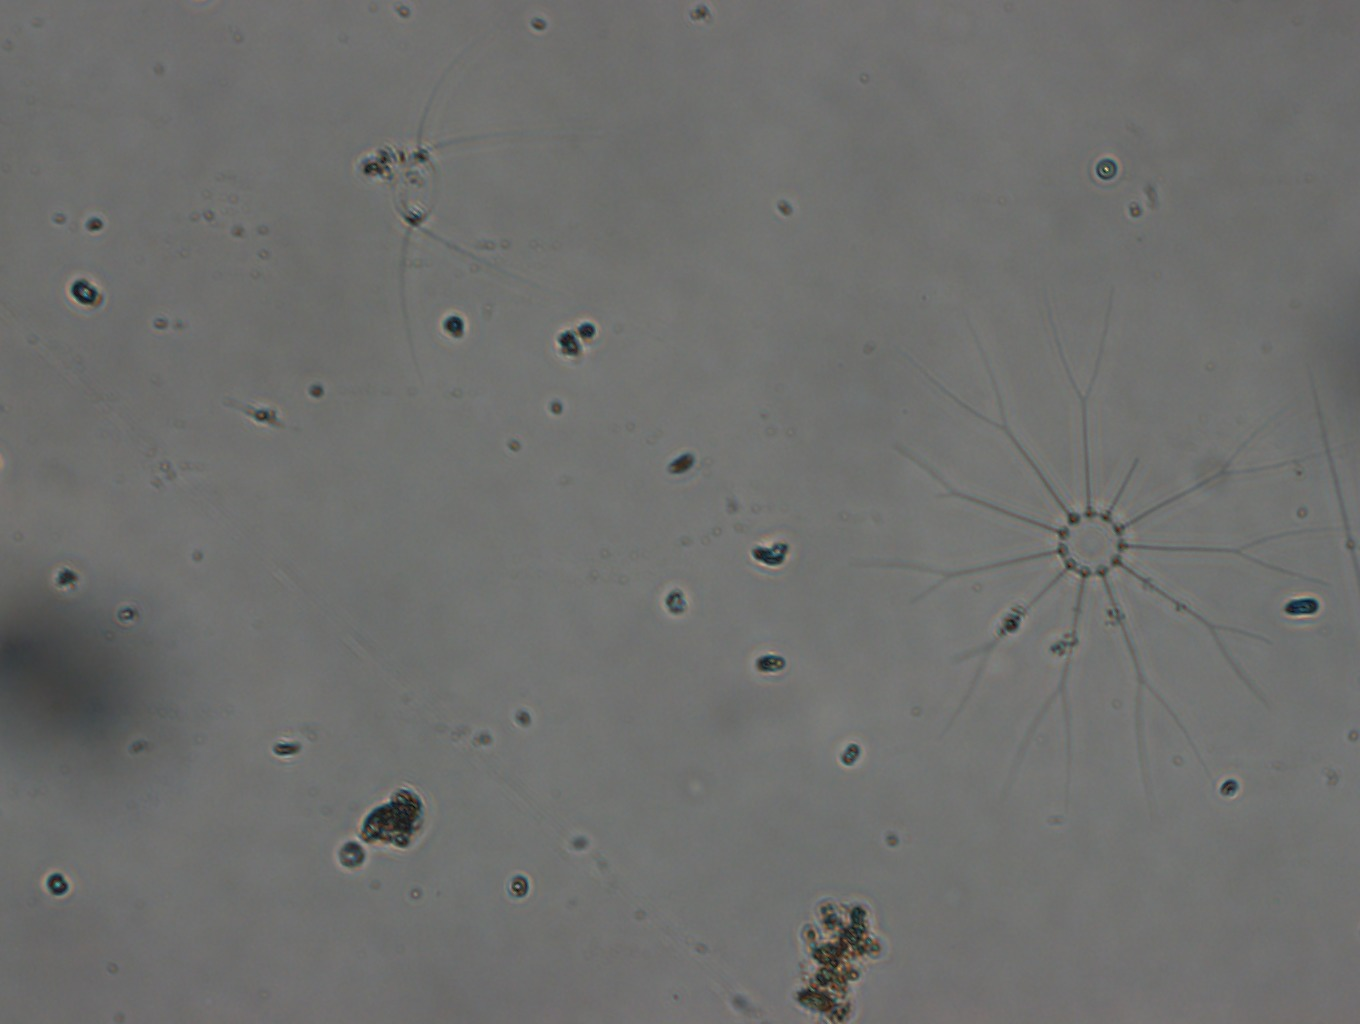bacteriastrum: (863, 291, 1335, 800)
